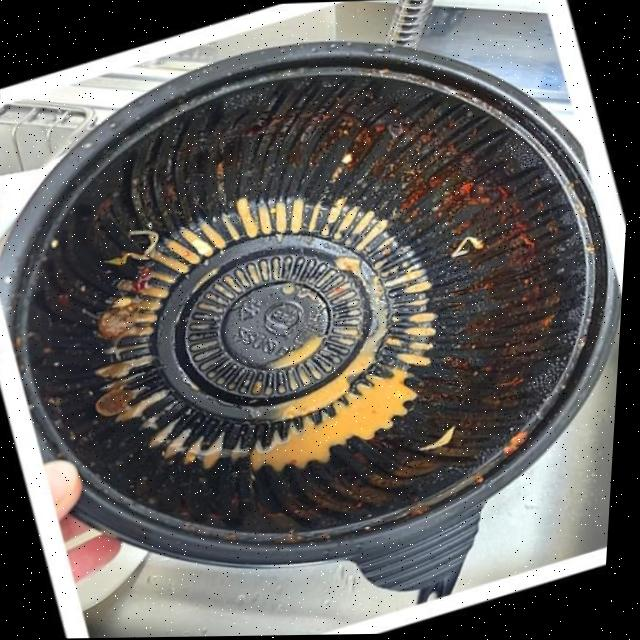disposable: (6, 20, 628, 606)
